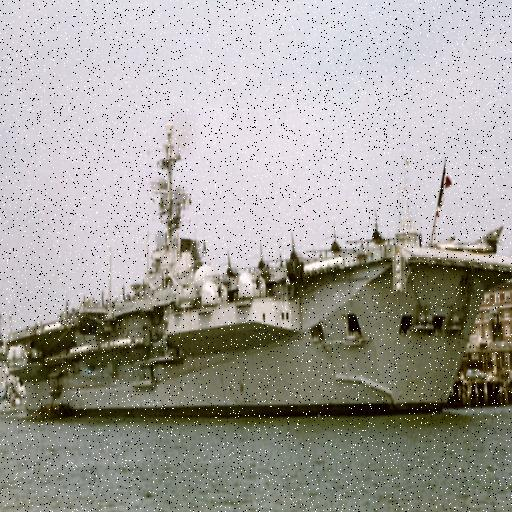Portanaves: (1, 126, 512, 418)
